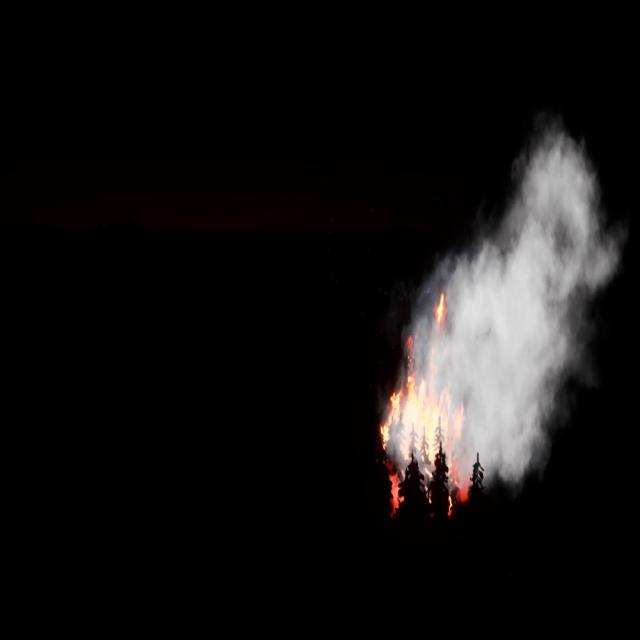fire: (382, 291, 464, 522)
smoke: (385, 120, 623, 486)
